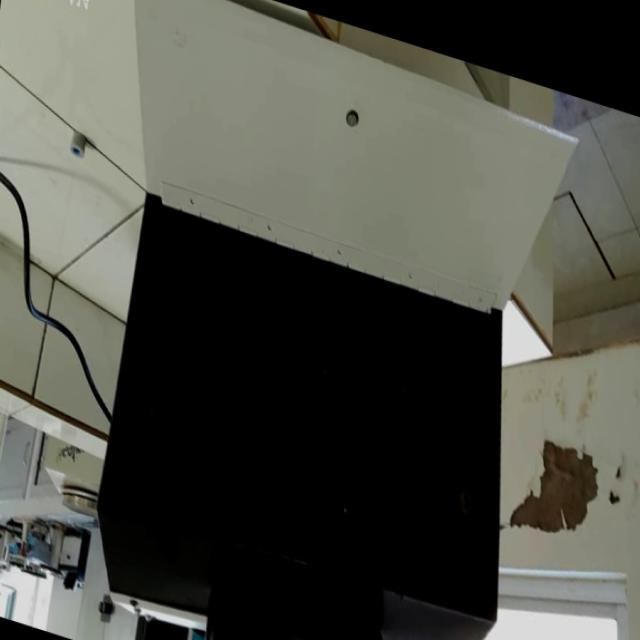U.V Cabinet: (85, 167, 552, 640)
